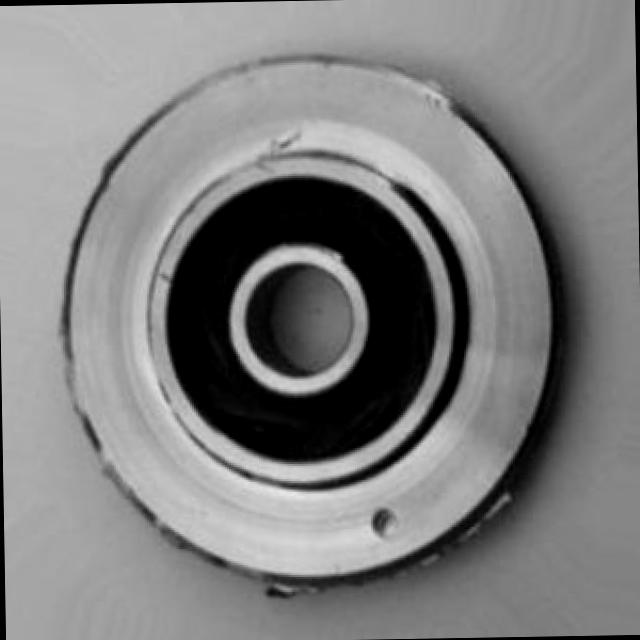Defect: (362, 501, 405, 538)
